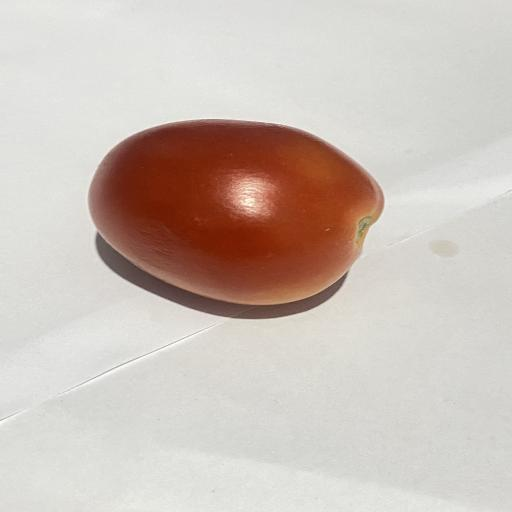ripe: (89, 120, 383, 305)
